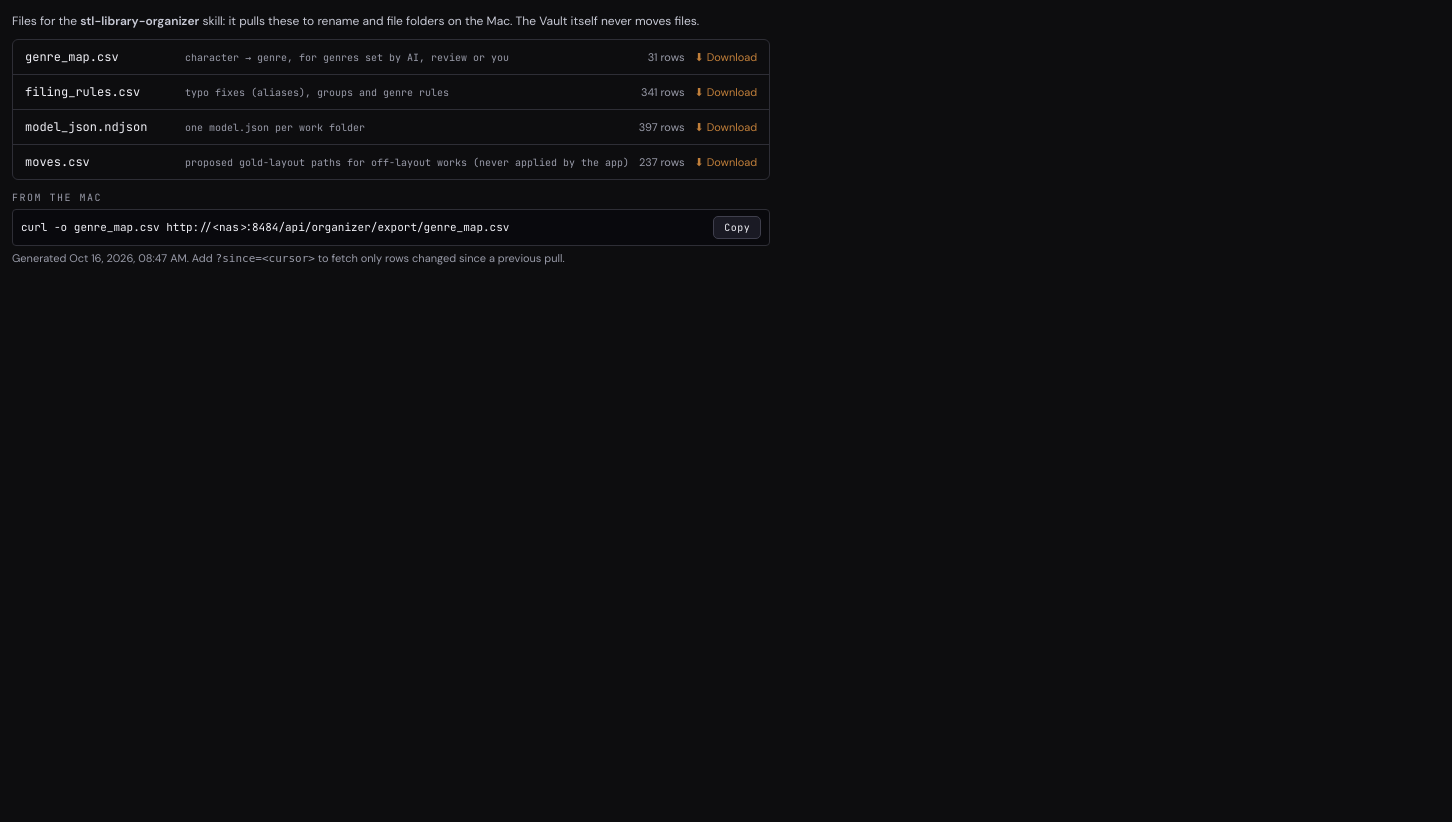
Test: Organizer export › lists the export files with rows and download links, plus a copyable curl command
This screenshot has width=1452, height=822.
Expected: the text "genre_map.csv" is shown, left=25, top=49, right=119, bottom=65
Expected: the text "341 rows" is shown, left=641, top=84, right=685, bottom=101
Click the button "Copy": (737,228) left=713, top=216, right=761, bottom=239
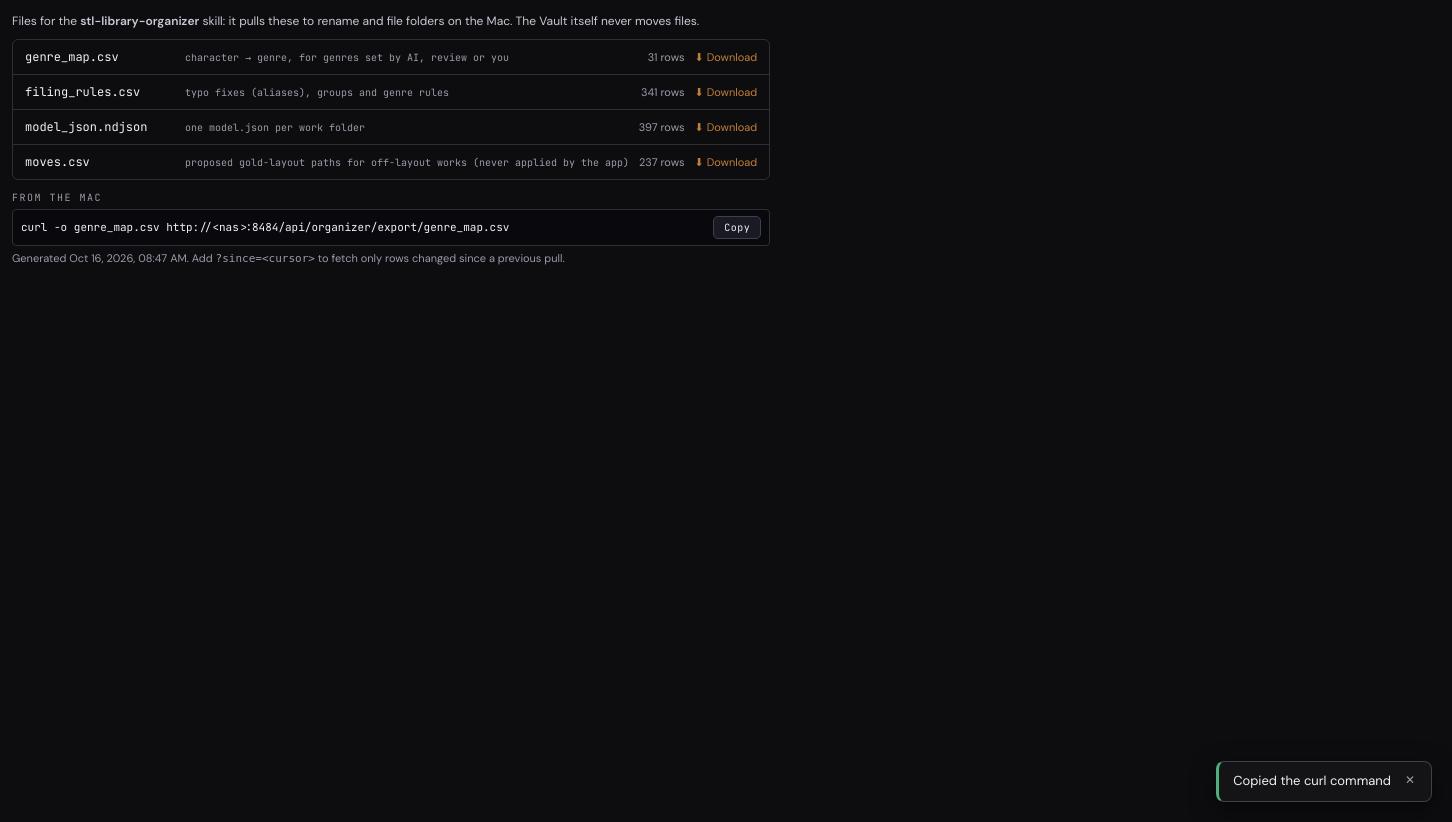
Expected: the text "Copied the curl command" is shown, left=1233, top=772, right=1391, bottom=791
